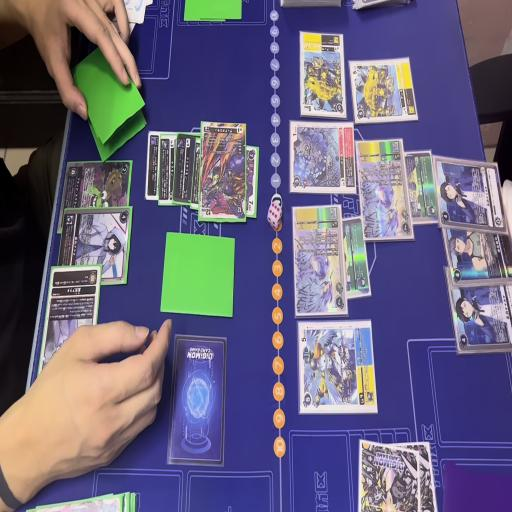card: (296, 318, 380, 416), (36, 264, 102, 388), (354, 134, 416, 244), (290, 203, 348, 320), (56, 204, 134, 284), (436, 154, 506, 230), (198, 120, 246, 228), (287, 119, 356, 194), (346, 52, 417, 124), (190, 143, 260, 215), (60, 161, 132, 230), (447, 282, 512, 354), (441, 224, 512, 288), (298, 31, 347, 118), (401, 149, 441, 224), (342, 212, 374, 296), (172, 133, 200, 209), (156, 132, 183, 208), (142, 127, 164, 205)
